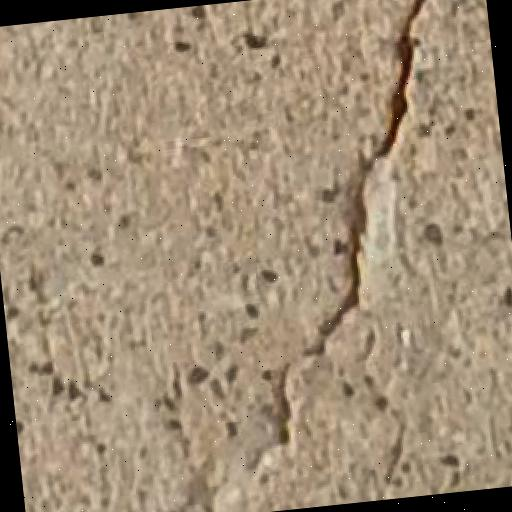spalling: (246, 0, 438, 446)
